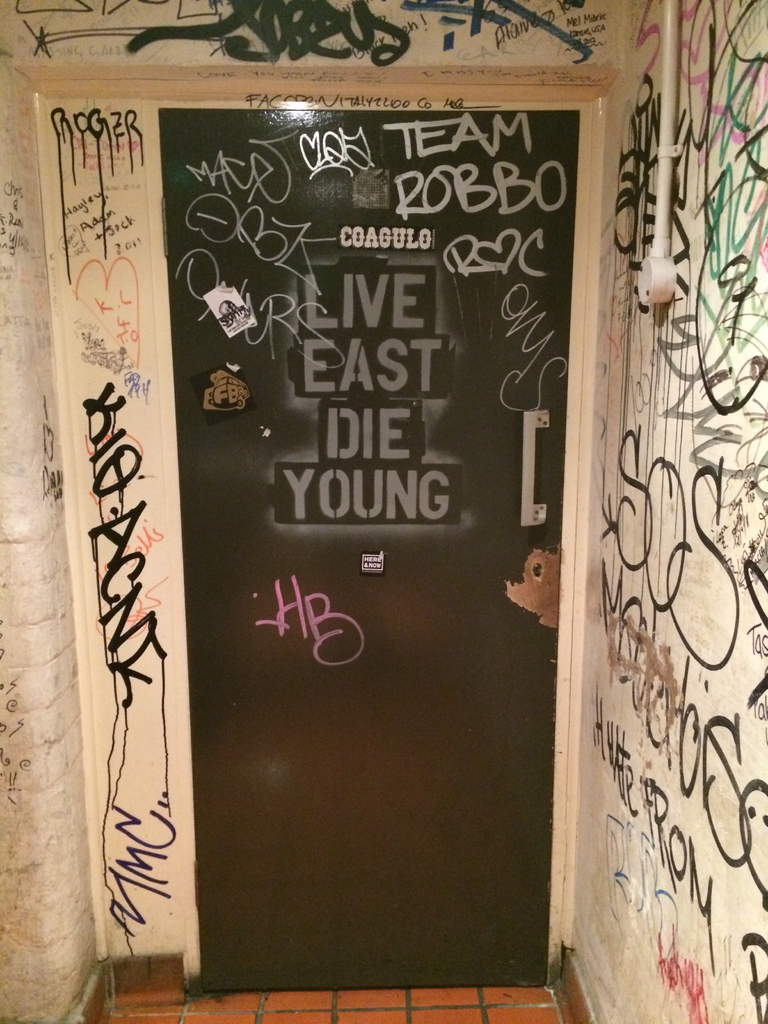Door: (99, 67, 612, 968)
